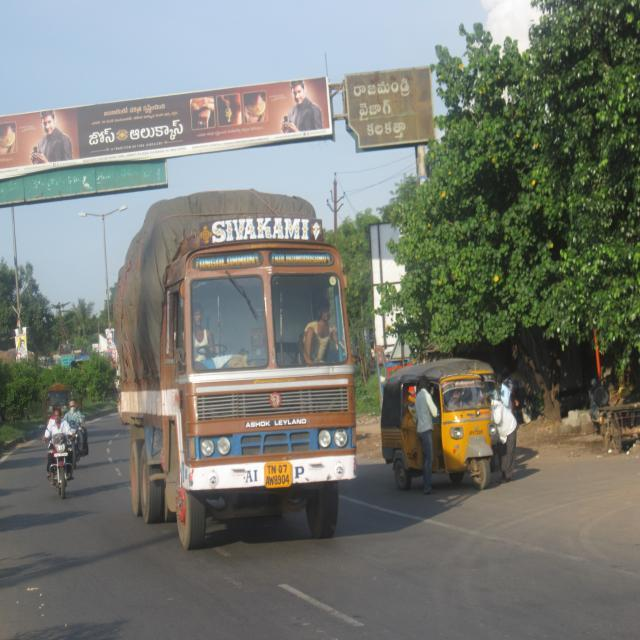auto_front: (378, 359, 512, 501)
truck_front: (97, 183, 364, 558)
two_wheeler_front: (33, 419, 83, 504)
